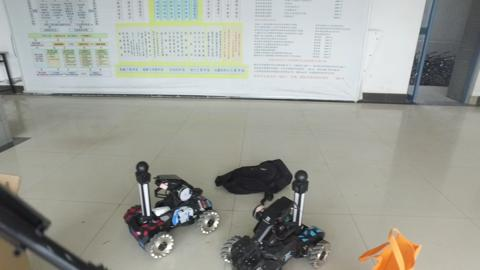bag: (214, 151, 292, 198)
chariot: (224, 170, 334, 269), (122, 157, 221, 257)
